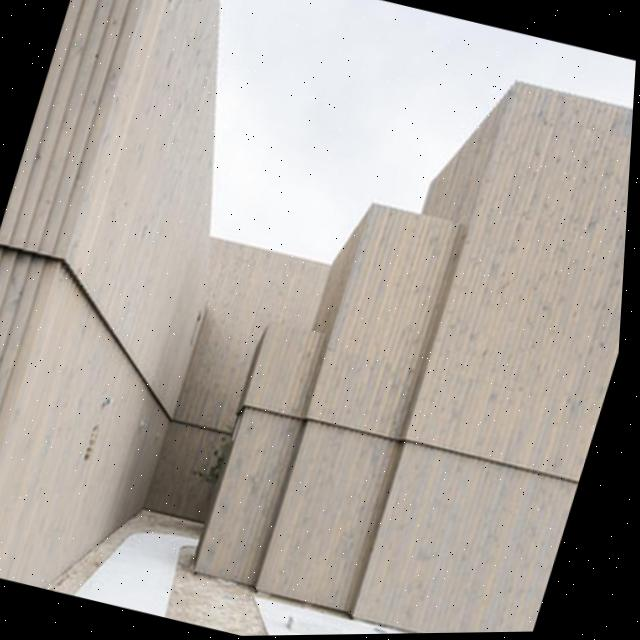building: (179, 29, 638, 637), (0, 0, 305, 607)
